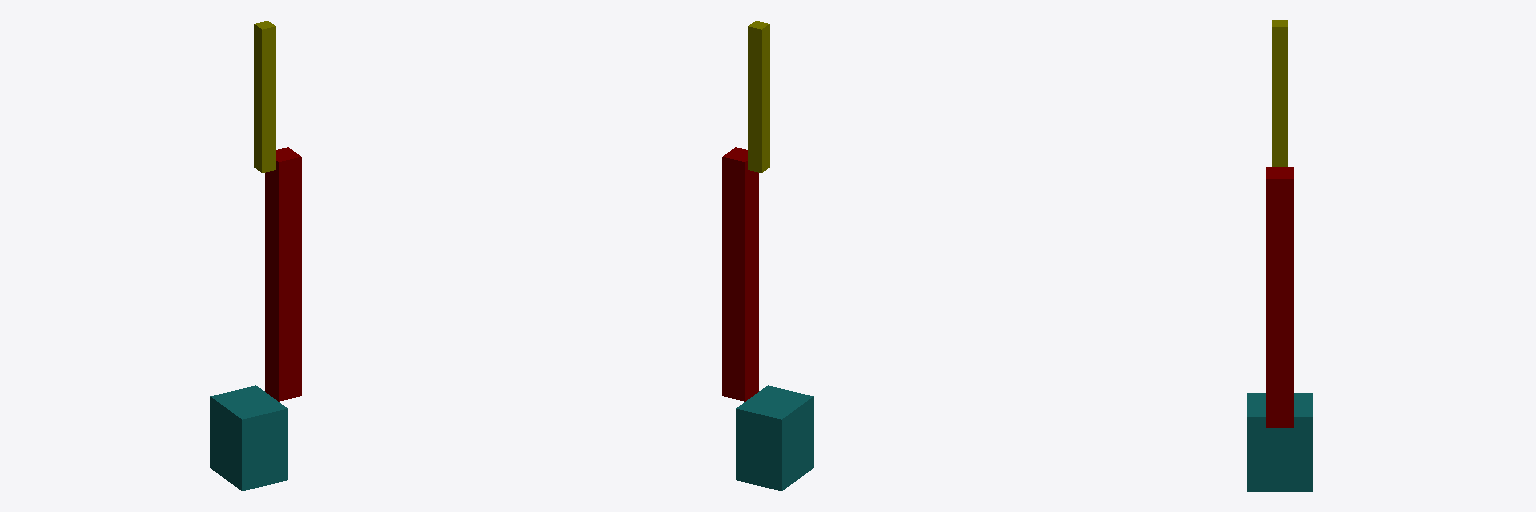
robot.urdf — basic_link:
<?xml version="1.0" encoding="utf-8"?>

<robot name="basic_link">

    <link name="base_link">
        <visual>
            <origin xyz="0.0 0.0 0.075" rpy="0.0 0.0 0.0"/>
            <geometry>
                <box size="0.1 0.12 0.15"/>             
            </geometry>
            <material name="brown">
                <color rgba="0.1 0.43 0.43 1.0" />
            </material>      
        </visual>
        <collision>
            <origin xyz="0.0 0.0 0.075" rpy="0.0 0.0 0.0"/>
            <geometry>
                <box size="0.1 0.12 0.15"/>             
            </geometry>          
        </collision>
        <inertial>
            <mass value="0.5"/>
            <origin xyz="0.0 0.0 0.0" rpy="0.0 0.0 0.0"/>
            <inertia ixx="0.1" ixy="0.0" ixz="0.0" iyy="1.0" iyz="0.0" izz="1.0"/> 
        </inertial>
    </link>

    <link name="link_1">
        <visual>
            <origin xyz="0.025 0.0 0.25" rpy="0.0 0.0 0.0"/>
            <geometry>
                <box size="0.05 0.05 0.5"/>             
            </geometry>
            <material name="red">
                <color rgba="0.5 0.0 0.0 1.0" />
            </material>      
        </visual>
        <collision>
            <origin xyz="0.025 0.0 0.25" rpy="0.0 0.0 0.0"/>
            <geometry>
                <box size="0.05 0.05 0.5"/>             
            </geometry>          
        </collision>
        <inertial>
            <mass value="0.3"/>
            <origin xyz="0.0 0.0 0.0" rpy="0.0 0.0 0.0"/>
            <inertia ixx="0.1" ixy="0.0" ixz="0.0" iyy="1.0" iyz="0.0" izz="1.0"/> 
        </inertial>
    </link>

    <link name="link_2">
        <visual>
            <origin xyz="0.025 0.0 0.15" rpy="0.0 0.0 0.0"/>
            <geometry>
                <box size="0.03 0.03 0.3"/>             
            </geometry>
            <material name="yellow">
                <color rgba="0.5 0.5 0.0 1.0" />
            </material>      
        </visual>
        <collision>
            <origin xyz="0.0 -0.20 0.0" rpy="0.0 0.0 0.0"/>
            <geometry>
                <box size="0.03 0.03 0.3"/>             
            </geometry>          
        </collision>
        <inertial>
            <mass value="0.1"/>
            <origin xyz="0.0 0.0 0.0" rpy="0.0 0.0 0.0"/>
            <inertia ixx="0.1" ixy="0.0" ixz="0.0" iyy="1.0" iyz="0.0" izz="1.0"/> 
        </inertial>
    </link>

    <joint name="base_link_to_link_1" type="revolute">
        <parent link="base_link"/>
        <child link="link_1"/>
        <axis xyz="1 0 0"/>
        <limit lower="-3.14159" upper="3.14159" velocity="50.0" effort="1000.0"/>
        <origin xyz="0.05 0 0.15" rpy="0 0 0"/>
    </joint>

    <joint name="link_1_to_link_2" type="revolute">
        <parent link="link_1"/>
        <child link="link_2"/>
        <axis xyz="1 0 0"/>
        <limit lower="-3.14159" upper="3.14159" velocity="50.0" effort="100.0"/>
        <origin xyz="-0.04 0.0 0.48" rpy="0 0 0"/>
    </joint>

</robot>

--- Render facts (derived) ---
3 views of the same robot in one strip: view 1: azimuth 30°, elevation 25°; view 2: azimuth 150°, elevation 25°; view 3: azimuth 270°, elevation 25° (orthographic).
Robot: basic_link — 3 links, 2 joints (2 revolute); root link base_link; default pose: all joints at 0.
Visible links, largest first — view 1: link_1, base_link, link_2; view 2: link_1, base_link, link_2; view 3: link_1, base_link, link_2.
Link boxes in pixels (<box>): link_1: <box>265,147,301,401</box>; base_link: <box>210,385,287,490</box>; link_2: <box>254,21,275,172</box>; link_1: <box>722,147,758,401</box>; base_link: <box>736,385,813,490</box>; link_2: <box>748,21,769,172</box>; link_1: <box>1266,167,1293,427</box>; base_link: <box>1247,393,1312,491</box>; link_2: <box>1272,20,1287,166</box>.
Size in the robot's own frame: 0.15 by 0.12 by 0.93 metres.
Geometry: primitives only (box / cylinder / sphere), no mesh files.
